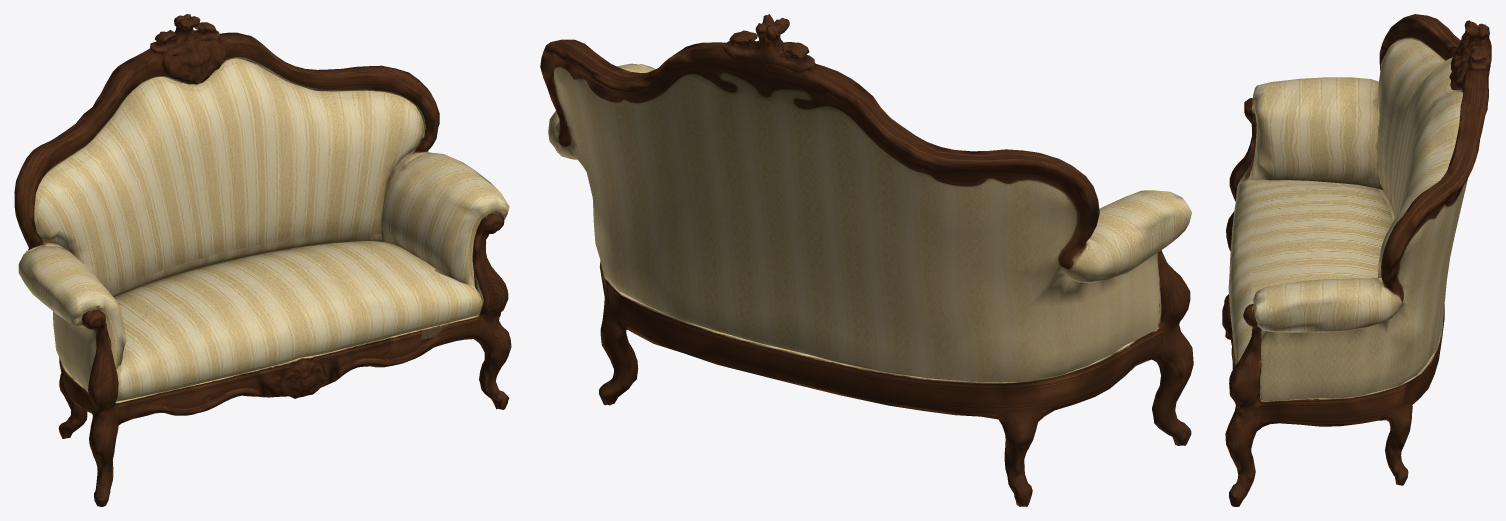
File: rrr_prop_settee_v1.glb
3 renders of one model, left to right at view 1: azimuth 30°, elevation 25°; view 2: azimuth 150°, elevation 25°; view 3: azimuth 270°, elevation 25°, orthographic. The views are drawn at different scales.
Visible parts, largest first — view 1: Mesh_0.001; view 2: Mesh_0.001; view 3: Mesh_0.001.
Boxes of the visible parts, x1=… form: Mesh_0.001: x1=14, y1=14, x2=511, y2=506; Mesh_0.001: x1=540, y1=14, x2=1193, y2=506; Mesh_0.001: x1=1222, y1=14, x2=1491, y2=506.
Size of the model in its own units: 1.28 by 1 by 0.645.
1 material, 1 textured.
